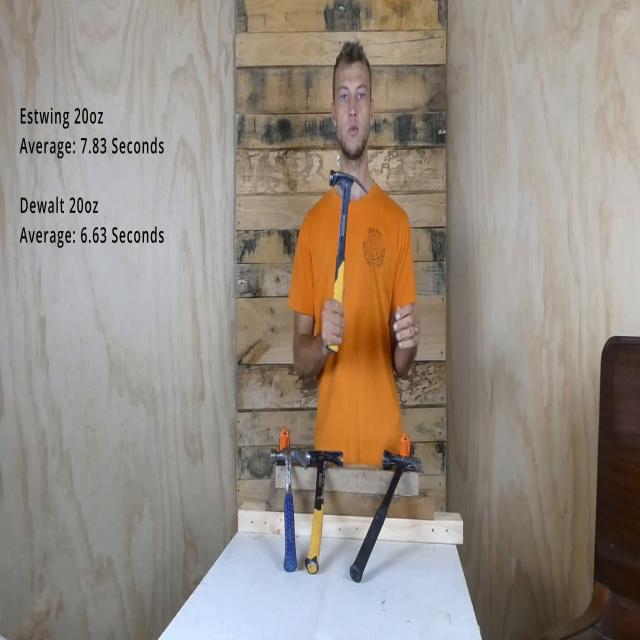hammer: (350, 453, 422, 583), (328, 169, 367, 354), (305, 452, 345, 574), (270, 445, 307, 576)
